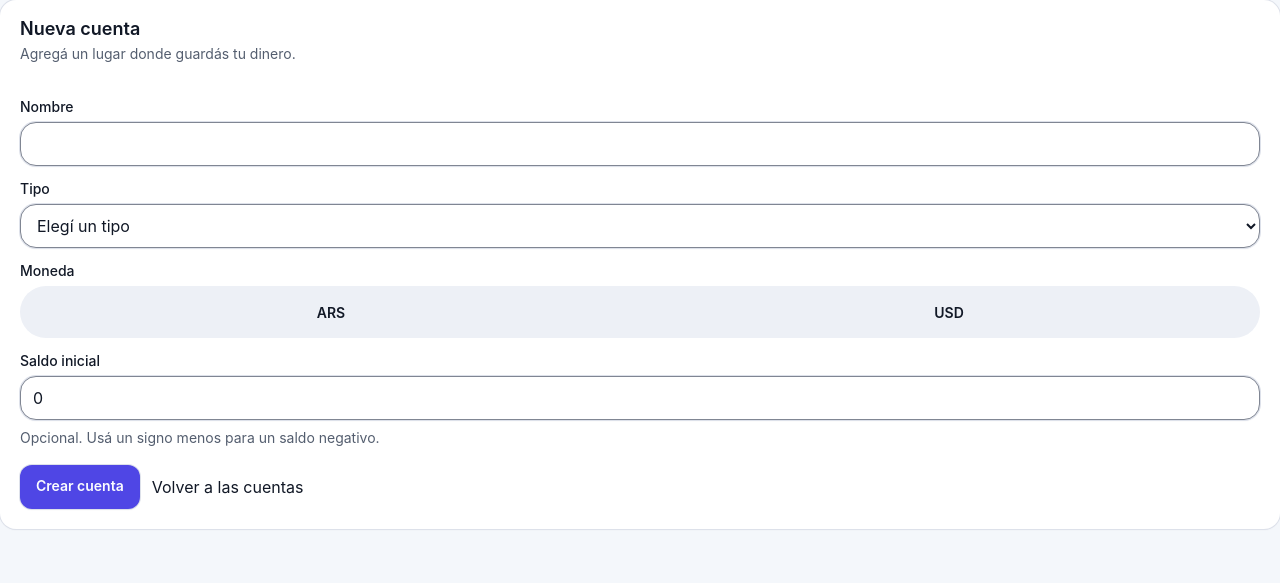
Scenario: AccountForm include in available setting › starts savings with the shared type default (AC-03, AC-04)
This screenshot has width=1280, height=583.
Select "Ahorros" in the dropdown labelled "Tipo" at coordinates (640, 226), box [20, 204, 1260, 248]
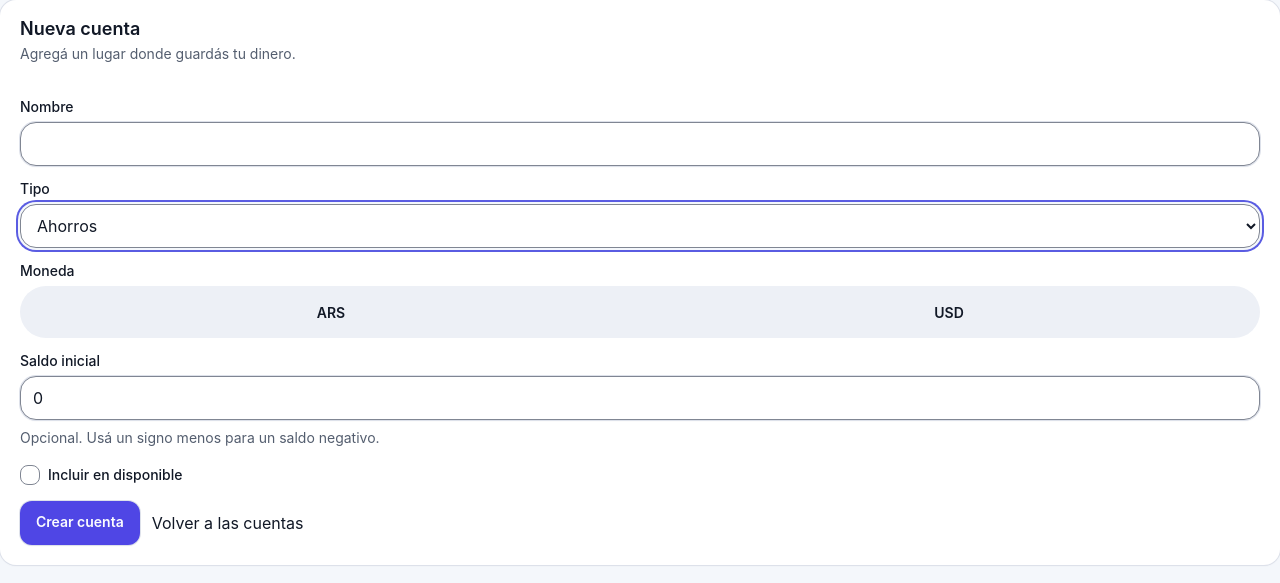
Expected: the checkbox labelled "Incluir en disponible" is not checked, [20, 465, 40, 485]
